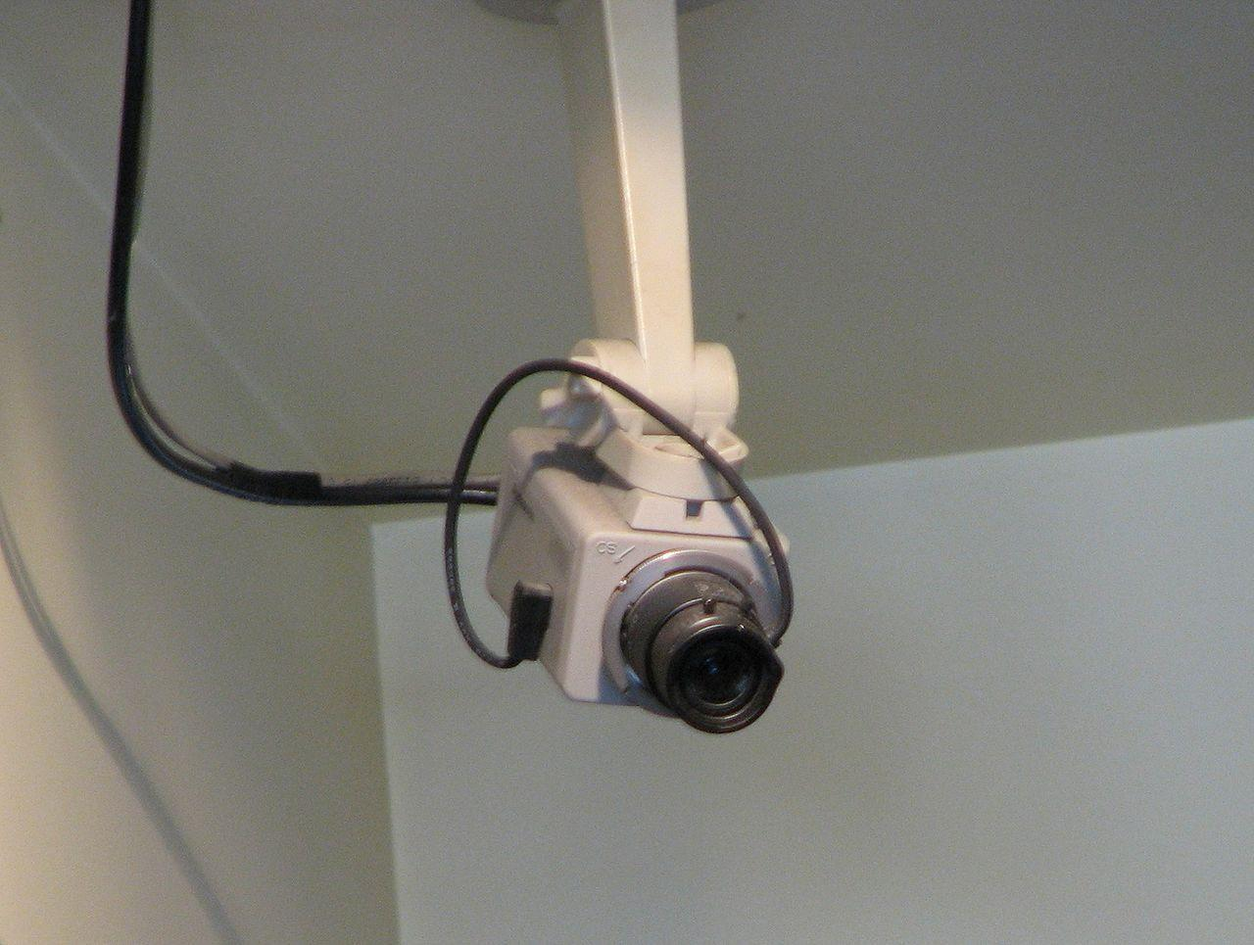CCTV: (487, 376, 784, 733), (692, 343, 748, 463)
